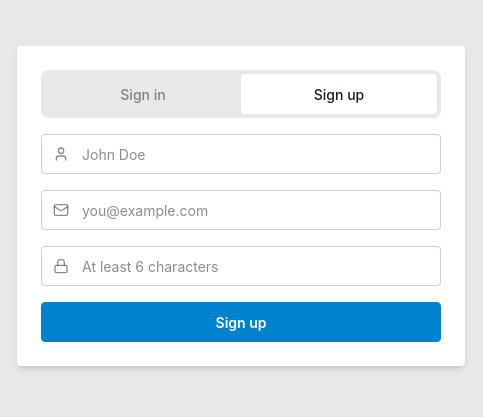
AuthPage — sign up tab › shows validation errors when fields are empty on submit
Click the button "Sign up" at [241, 322], box [41,302,441,342]
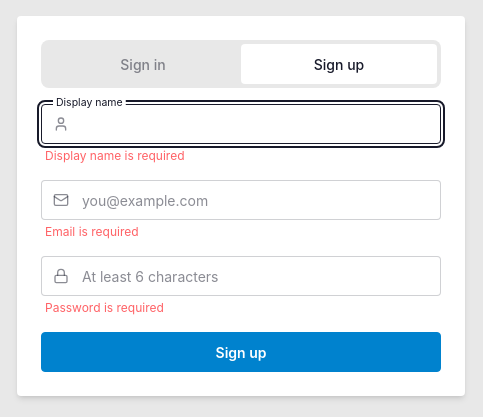
expect the text "Display name is required" is shown: met, box [45,148,184,163]
expect the text "Email is required" is shown: met, box [45,224,139,239]
expect the text "Password is required" is shown: met, box [45,300,164,315]
